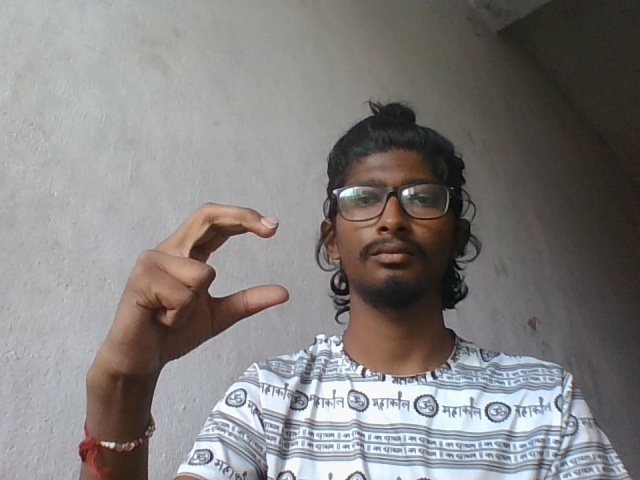Stop: (92, 198, 301, 353)
